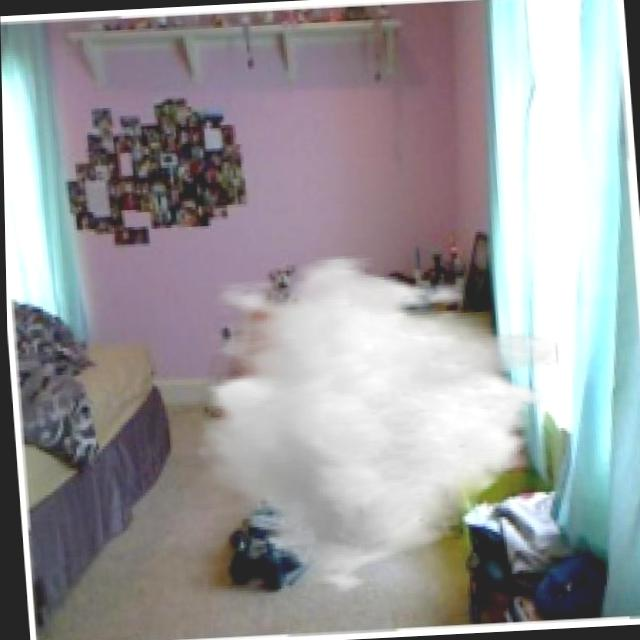no_helmet: (182, 245, 574, 607)
